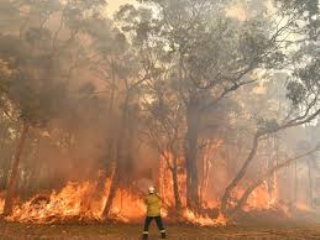fire: (162, 149, 301, 226), (6, 175, 136, 224)
smoke: (8, 31, 144, 165)
